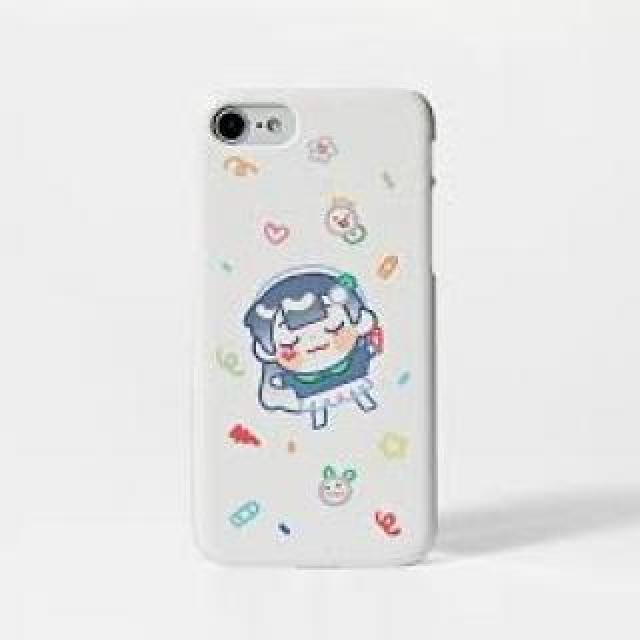smart phone: (182, 55, 453, 575)
